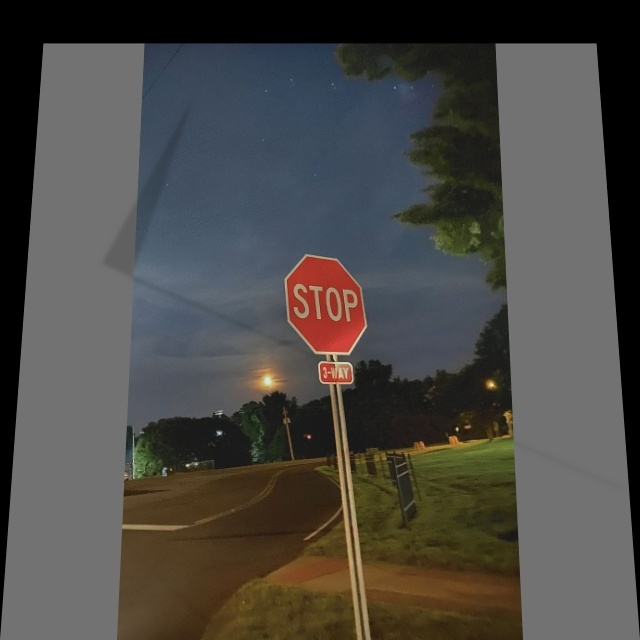Stop: (284, 254, 368, 356)
